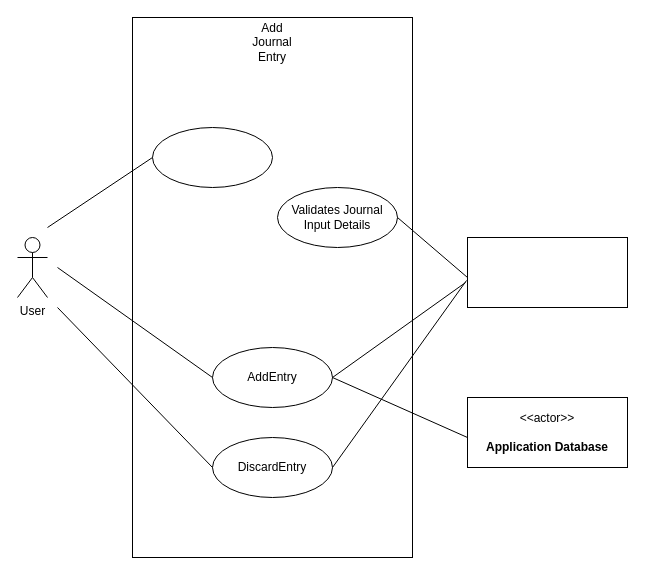
The diagram is 645 pixels wide and 575 high, and some of its shapes have lost their labels. The shapes that lost their labels are listed below. From the top down, each one's centre as x and y in pixels, then its label:
[212,157]: Fill Sign Add Journal Form
[547,272]: <<actor>> Application
